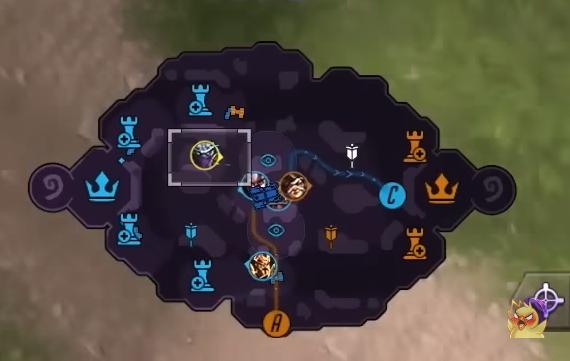blue player: (242, 251, 282, 283), (236, 170, 270, 203)
